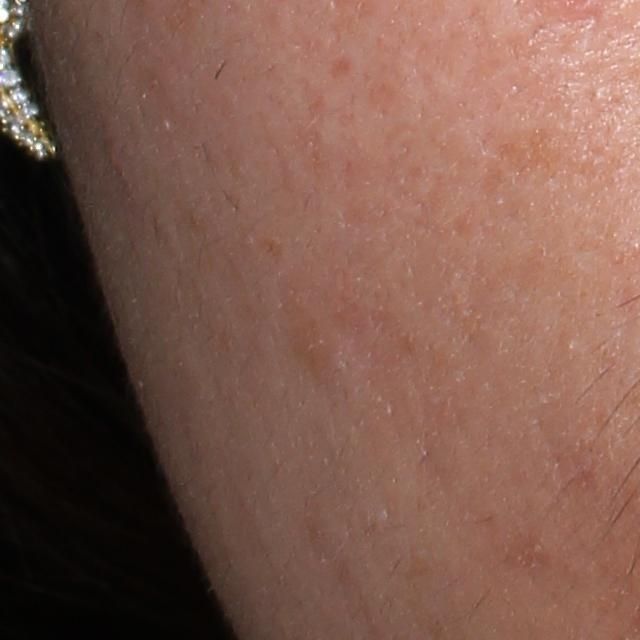comedo: (564, 341, 578, 355)
